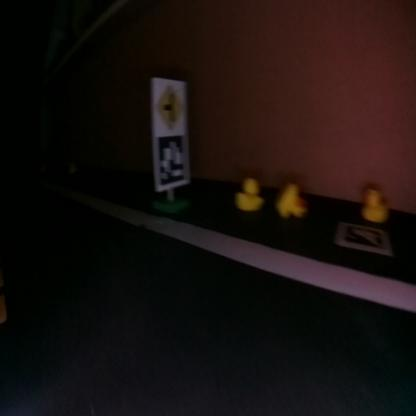duckie: (229, 166, 270, 218), (272, 172, 308, 228), (358, 179, 390, 227)
